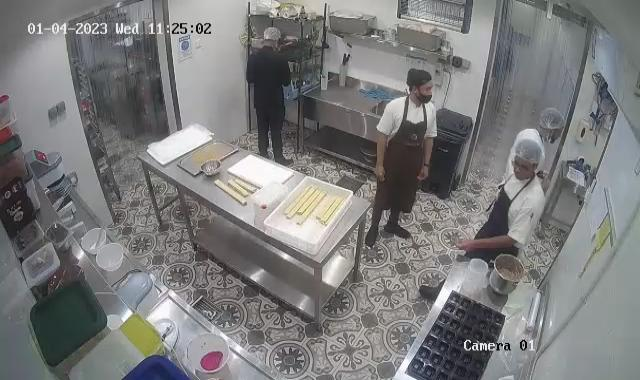hairnet: (512, 140, 543, 169), (540, 105, 566, 134), (263, 25, 280, 43)
no_hairnet: (408, 66, 432, 92)
